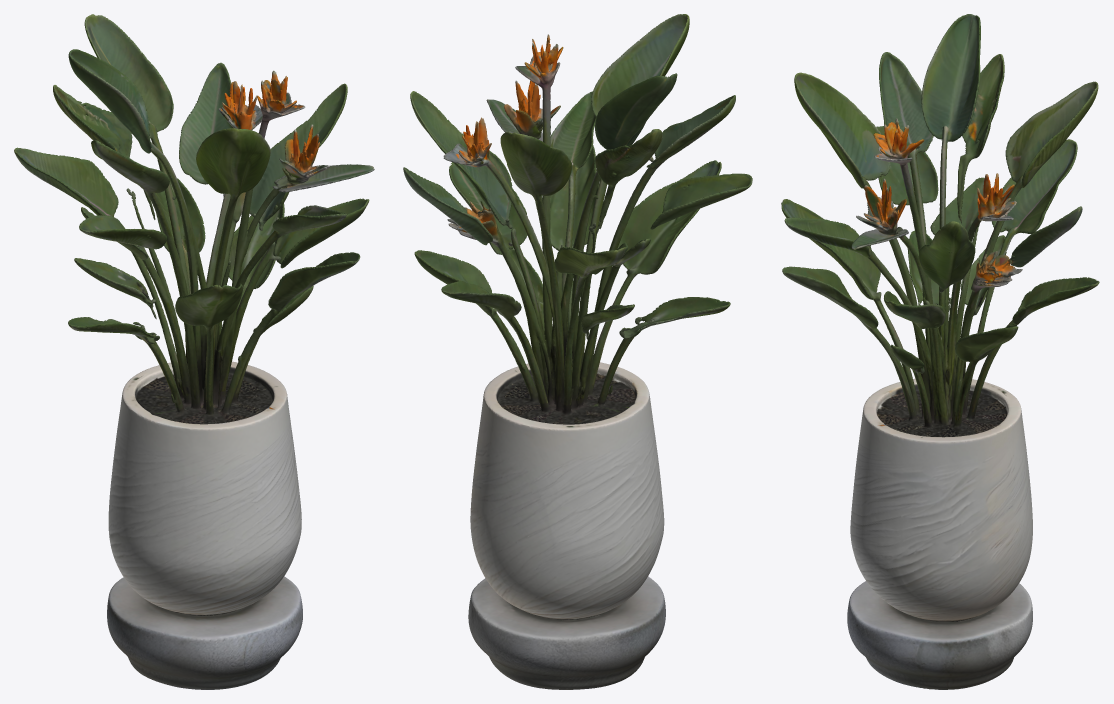
File: 123_Original_15.glb
The picture shows the model from 3 angles, left to right: view 1: azimuth 30°, elevation 25°; view 2: azimuth 150°, elevation 25°; view 3: azimuth 270°, elevation 25°; orthographic projection. The views are drawn at different scales.
Visible parts, largest first — view 1: tripo_node_1850cf5d-6664-4d9b-bc79-c73e691f2b38; view 2: tripo_node_1850cf5d-6664-4d9b-bc79-c73e691f2b38; view 3: tripo_node_1850cf5d-6664-4d9b-bc79-c73e691f2b38.
Part boxes in pixels (x1,y1,x2,y2): tripo_node_1850cf5d-6664-4d9b-bc79-c73e691f2b38: (14, 14, 374, 689); tripo_node_1850cf5d-6664-4d9b-bc79-c73e691f2b38: (403, 14, 752, 689); tripo_node_1850cf5d-6664-4d9b-bc79-c73e691f2b38: (781, 14, 1099, 689).
Bounding box in the file's own units: 0.5062 × 1 × 0.4872.
1 material, 1 textured.
